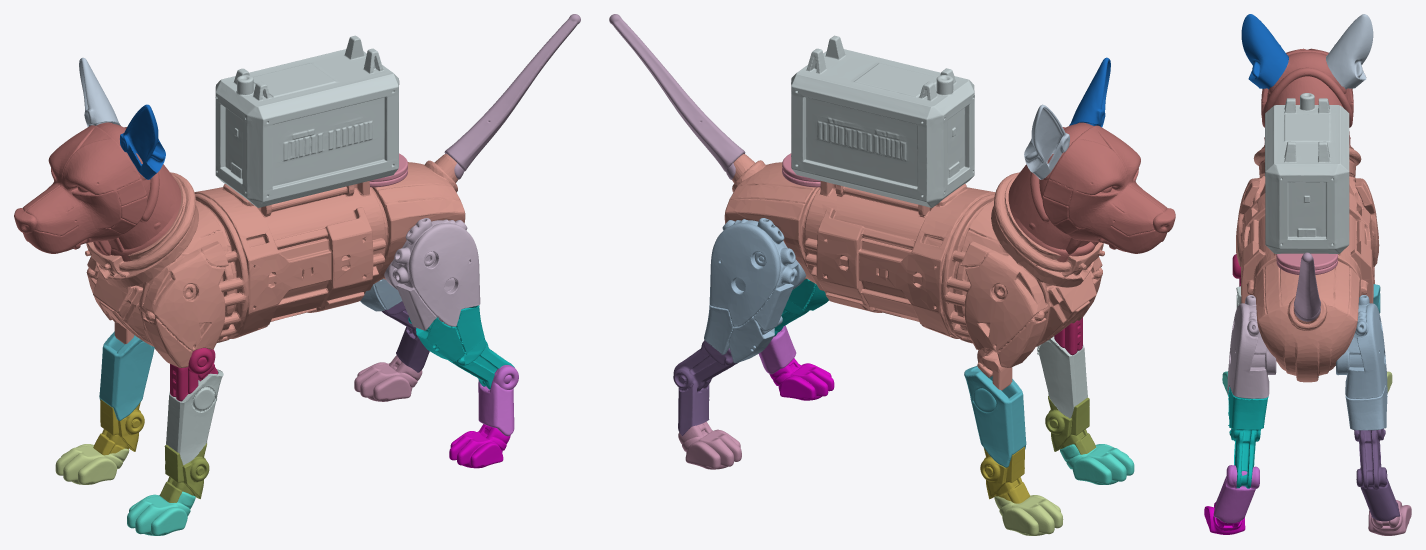
The picture shows the model from 3 angles, left to right: view 1: azimuth 30°, elevation 25°; view 2: azimuth 150°, elevation 25°; view 3: azimuth 270°, elevation 25°; orthographic projection. The views are drawn at different scales.
Parts seen in each view (by area): view 1: world; view 2: world; view 3: world.
Part boxes in pixels (box(x1,y1,x2,y2)): world: box(14, 14, 580, 535); world: box(609, 14, 1175, 535); world: box(1204, 14, 1411, 535).
Bounding box in the file's own units: 1.06 × 0.7589 × 0.3784.
